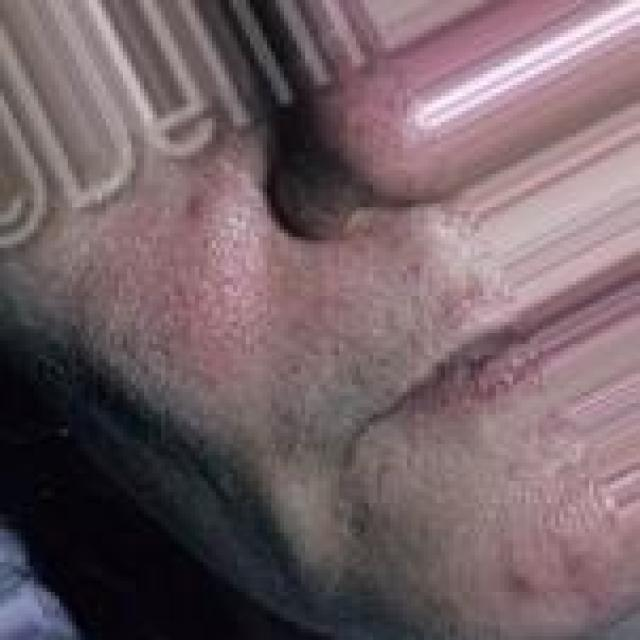Rosacea: (74, 181, 359, 384), (506, 452, 604, 613), (314, 66, 436, 192)
